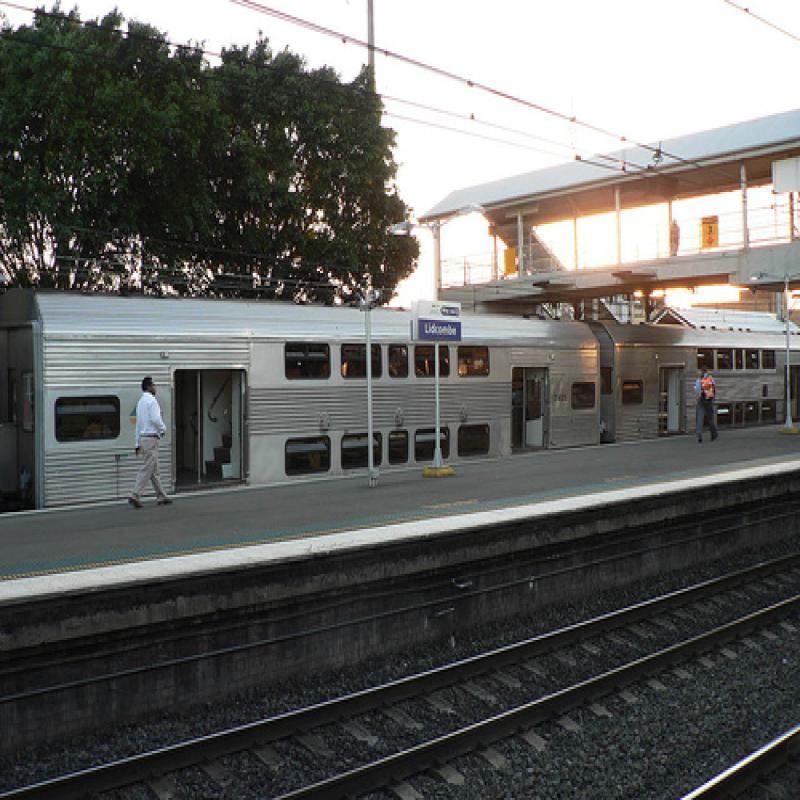train: (1, 282, 799, 513)
